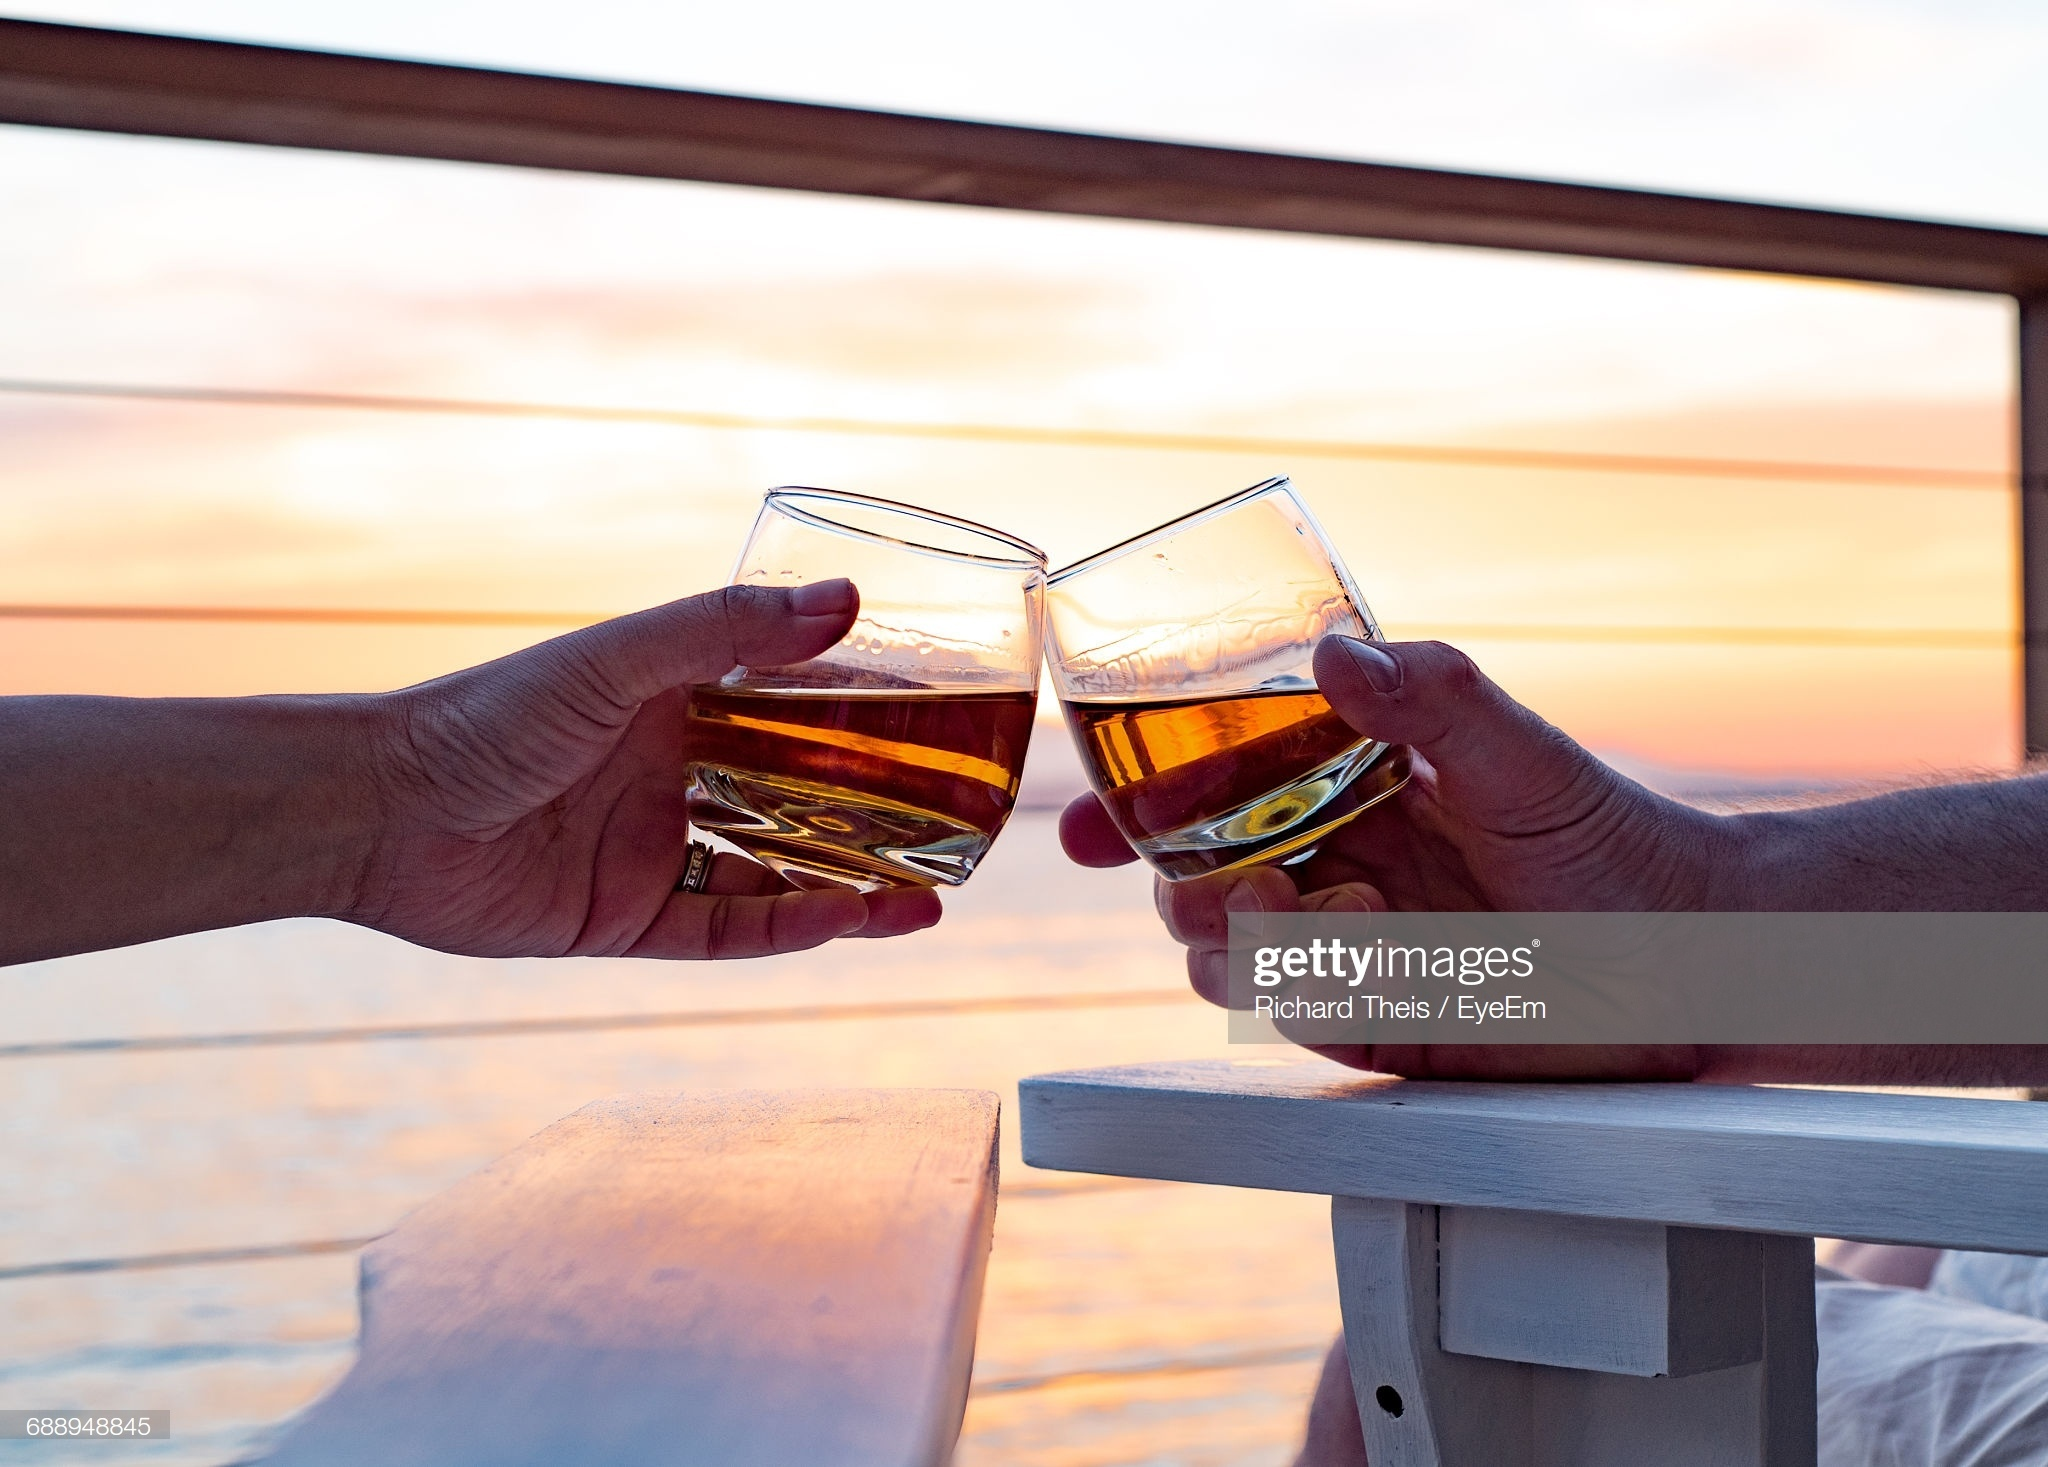whiskey: (1026, 484, 1418, 926), (718, 483, 1057, 945)
